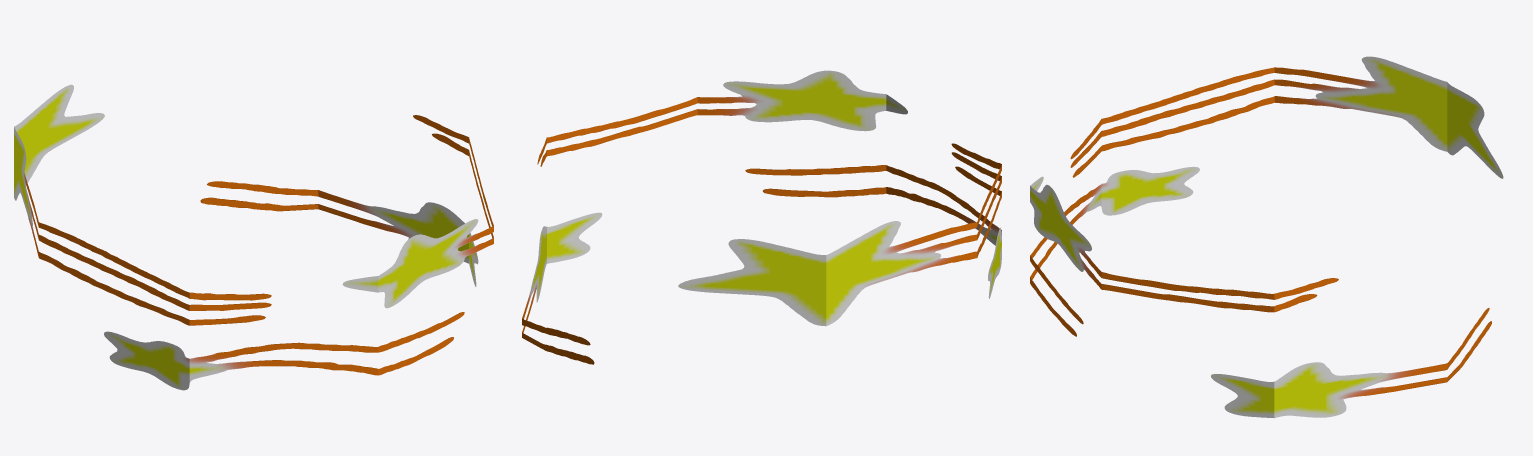
Rendered from Stun.fbx.
3 views of the same model, side by side, from view 1: azimuth 30°, elevation 25°; view 2: azimuth 150°, elevation 25°; view 3: azimuth 270°, elevation 25° (orthographic).
Visible parts, largest first — view 1: Cylinder, Cylinder.001; view 2: Cylinder, Cylinder.001; view 3: Cylinder, Cylinder.001.
Boxes of the visible parts, <box> form: Cylinder: <box>14,84,493,390</box>; Cylinder.001: <box>14,85,492,389</box>; Cylinder: <box>522,70,1001,364</box>; Cylinder.001: <box>522,71,1001,363</box>; Cylinder: <box>1030,56,1503,418</box>; Cylinder.001: <box>1030,57,1502,417</box>.
Size of the model in its own units: 2 by 2 by 1.
